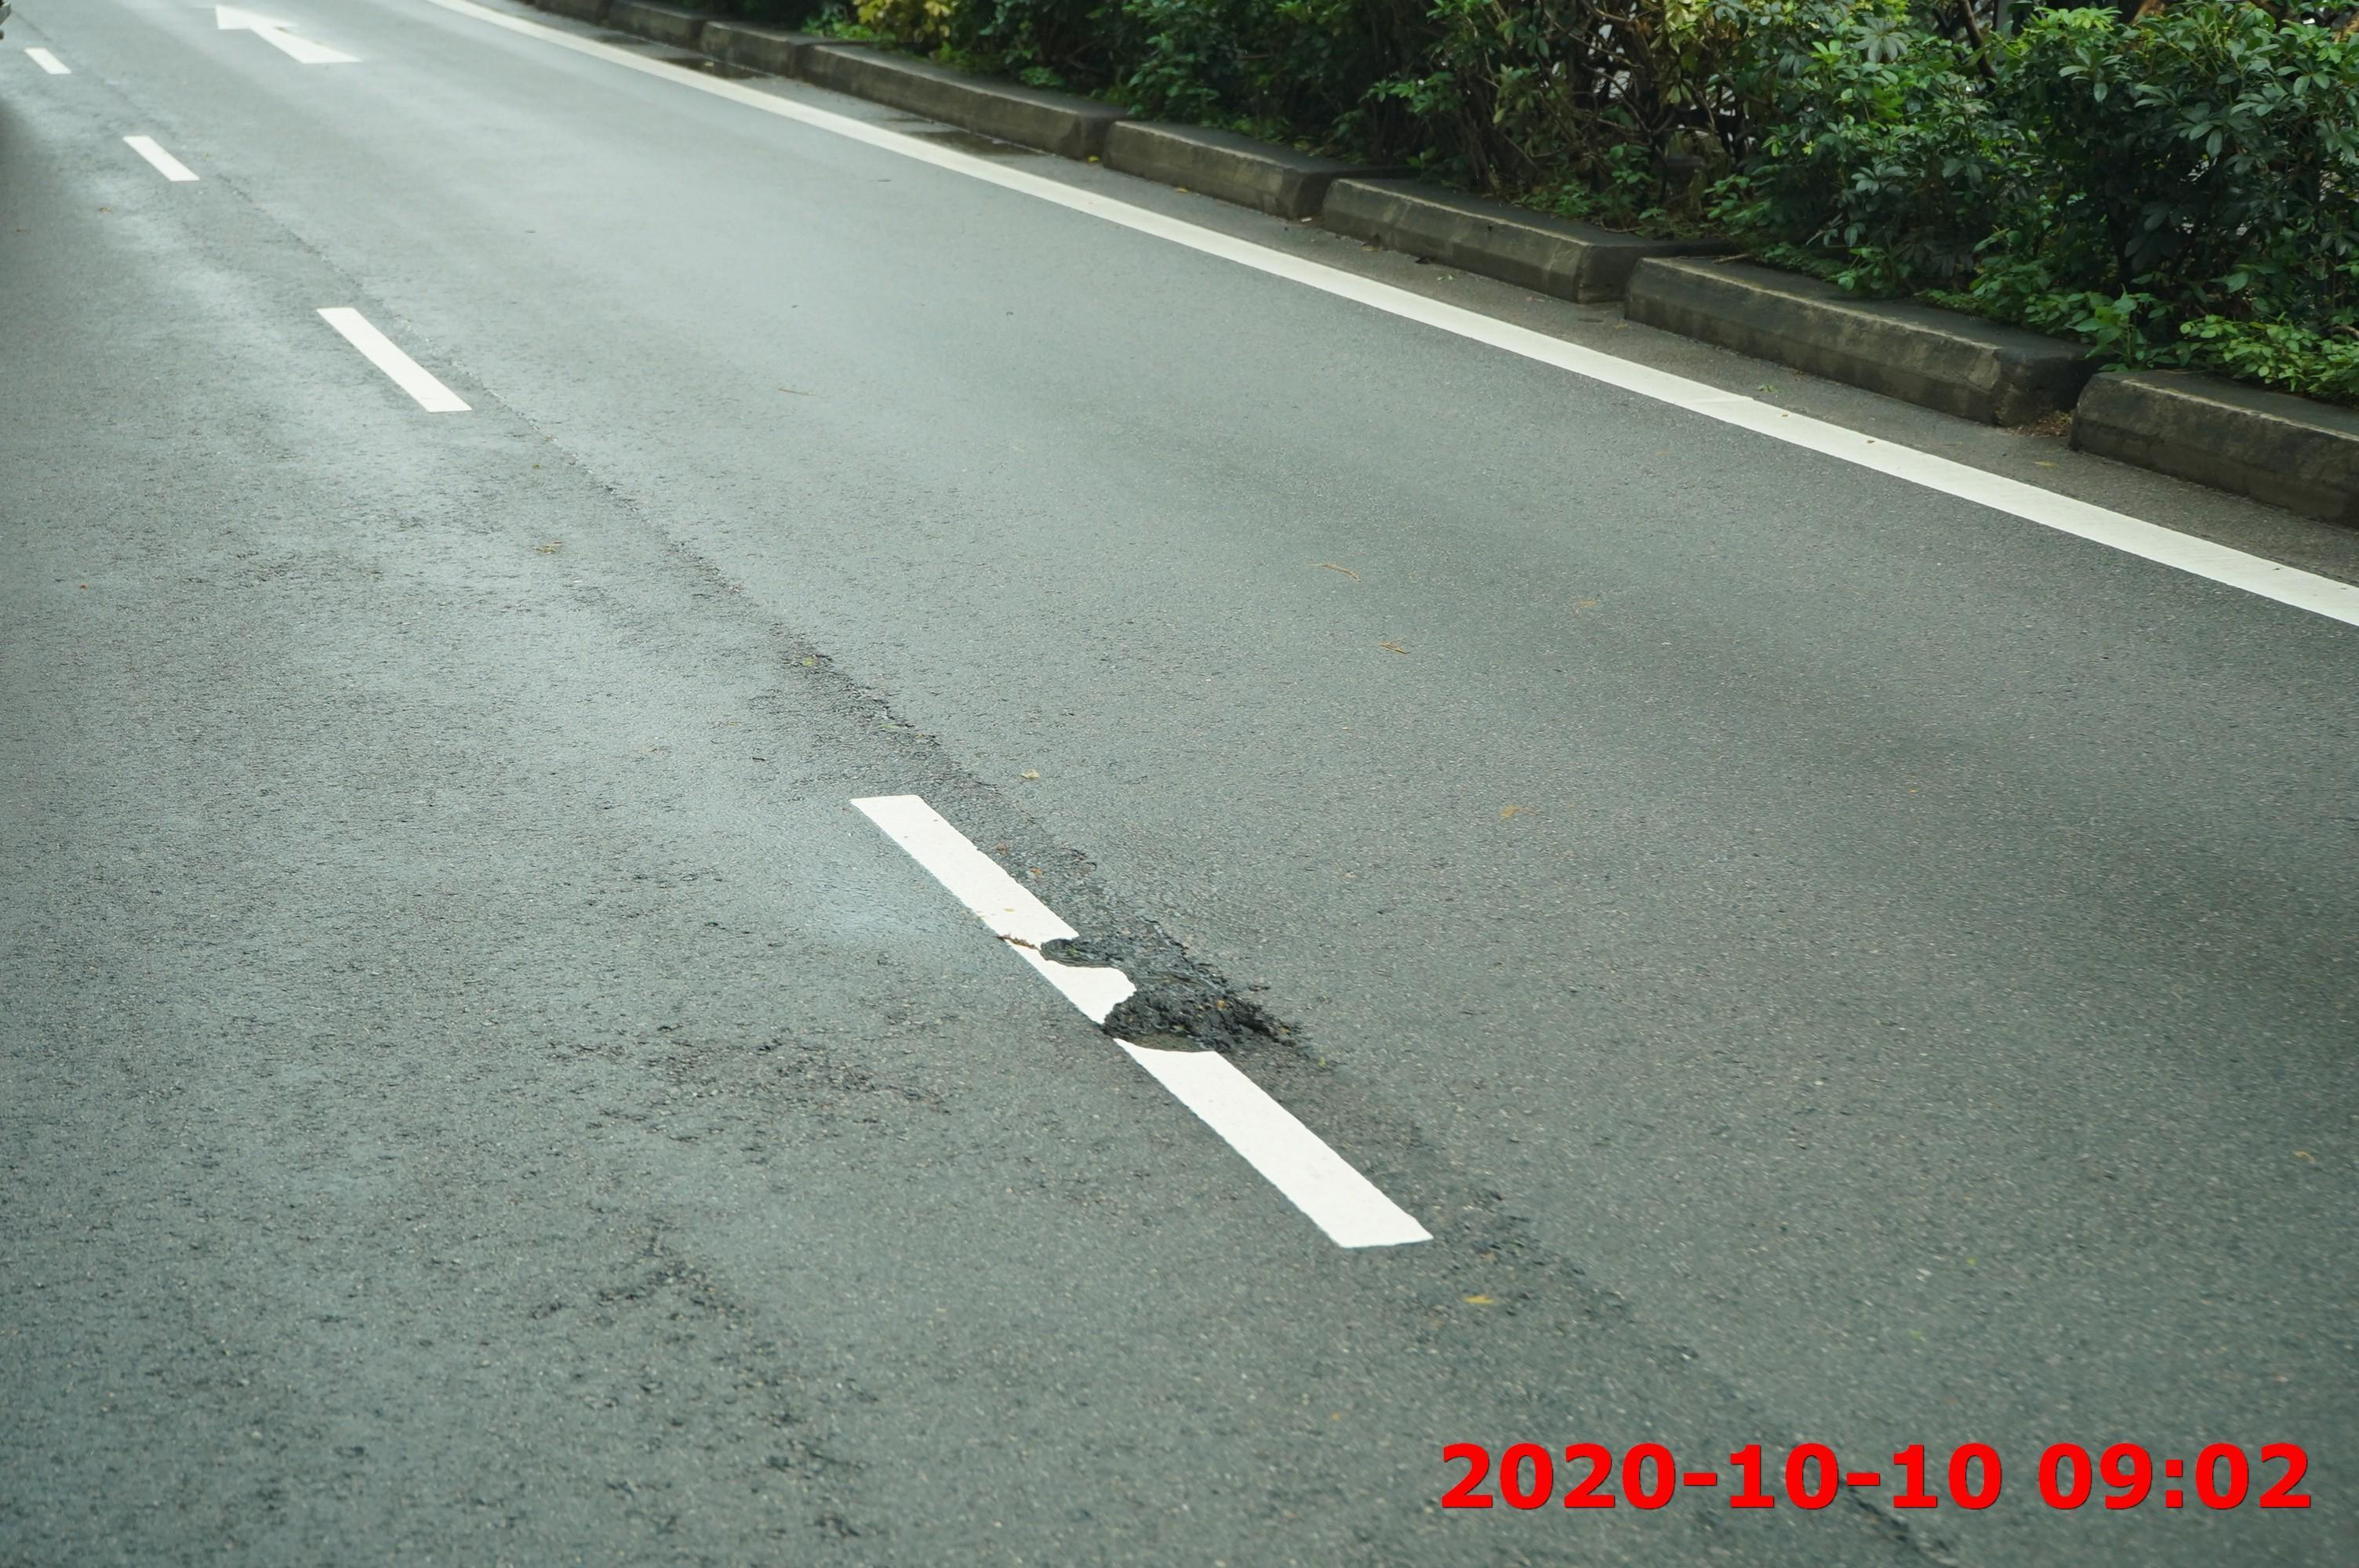peeling off premix: (1083, 963, 1335, 1083)
